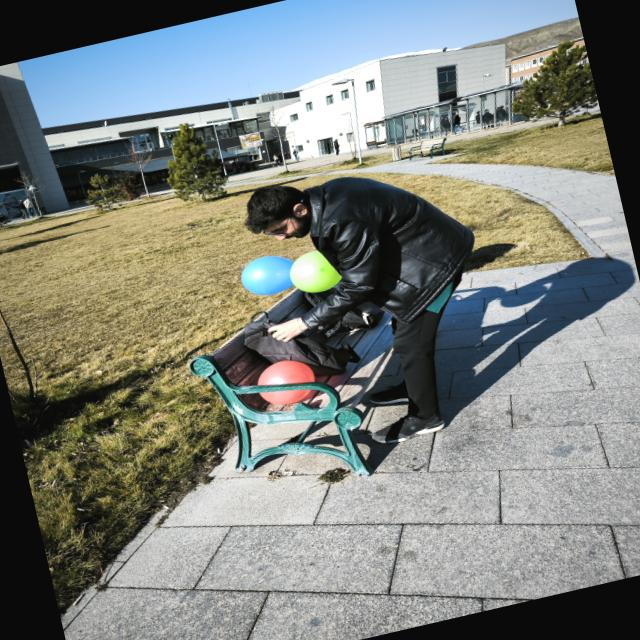balloon: (290, 250, 341, 292), (241, 255, 293, 295), (258, 360, 314, 385), (260, 390, 312, 404)
